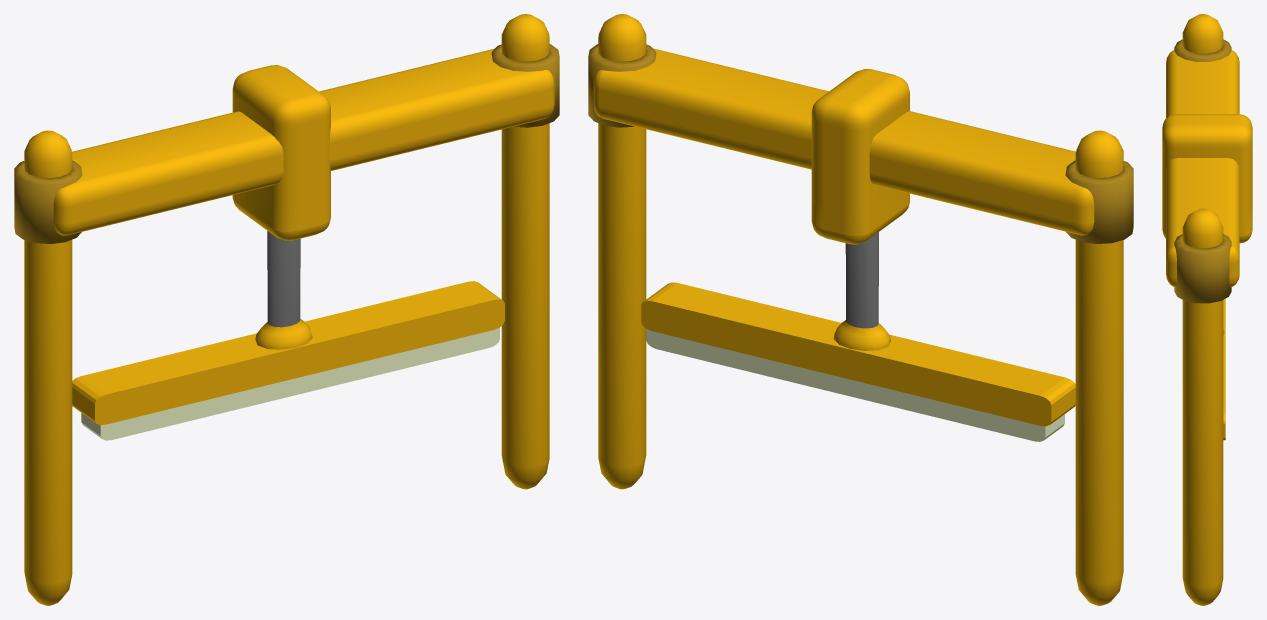
File: PacketMachine.fbx
3 views of the same model, side by side, from view 1: azimuth 30°, elevation 25°; view 2: azimuth 150°, elevation 25°; view 3: azimuth 270°, elevation 25° (orthographic). The views are drawn at different scales.
Parts seen in each view (by area): view 1: Packer, Packer_End, Packer_End.001; view 2: Packer, Packer_End, Packer_End.001; view 3: Packer, Packer_End.
Part boxes in pixels (x1=…): Packer: x1=14, y1=14, x2=559, y2=605; Packer_End: x1=72, y1=281, x2=504, y2=440; Packer_End.001: x1=255, y1=231, x2=312, y2=349; Packer: x1=588, y1=14, x2=1133, y2=605; Packer_End: x1=641, y1=282, x2=1075, y2=441; Packer_End.001: x1=833, y1=232, x2=890, y2=350; Packer: x1=1162, y1=14, x2=1252, y2=605; Packer_End: x1=1223, y1=298, x2=1225, y2=440.
Size of the model in its own units: 71.87 by 60.35 by 12.59.
